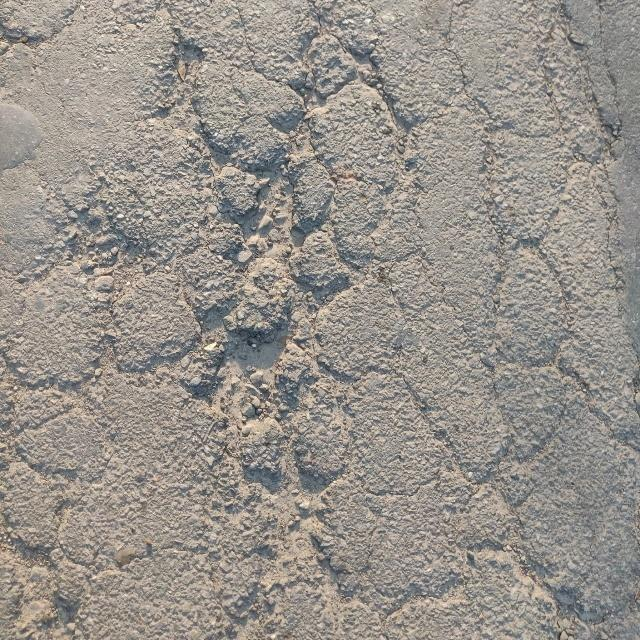Surface Erosion: (18, 39, 639, 640)
